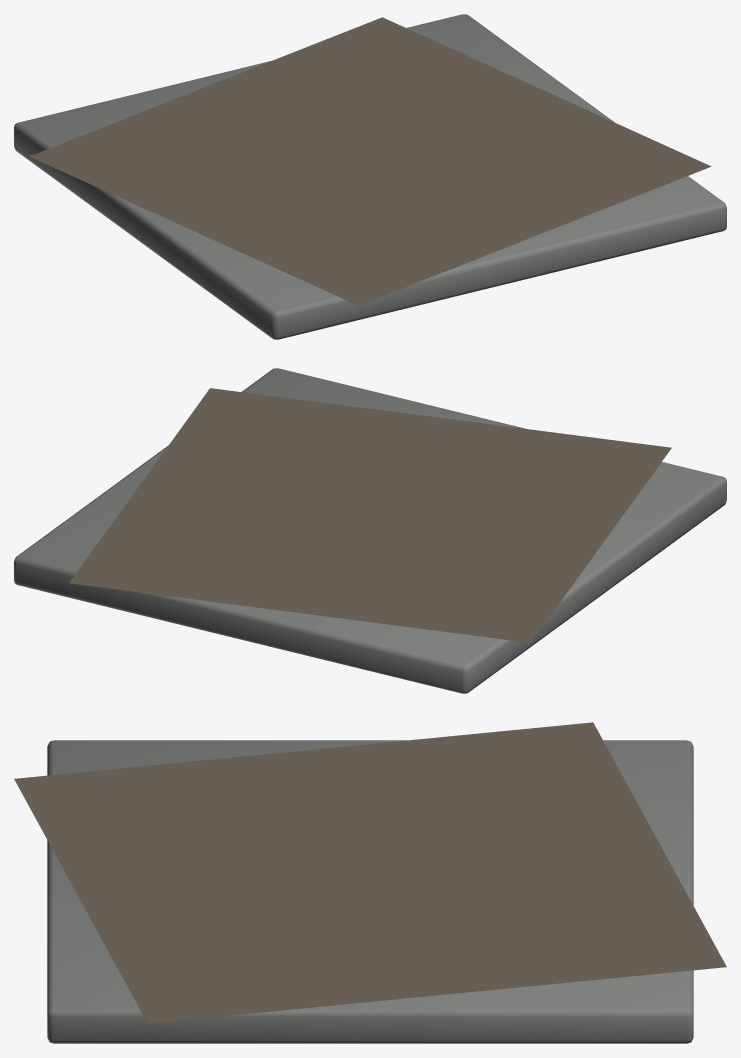
File: ground_tile_stone.glb
The picture shows the model from 3 angles, top to bottom: view 1: azimuth 30°, elevation 25°; view 2: azimuth 150°, elevation 25°; view 3: azimuth 270°, elevation 25°; orthographic projection. The views are drawn at different scales.
Visible parts, largest first — view 1: GroundTileStoneA; view 2: GroundTileStoneA; view 3: GroundTileStoneA.
Part boxes in pixels (x1,y1,x2,y2): GroundTileStoneA: (14,14,726,339); GroundTileStoneA: (14,368,726,693); GroundTileStoneA: (14,722,726,1043).
Size of the model in its own units: 2.21 by 0.125 by 2.21.
